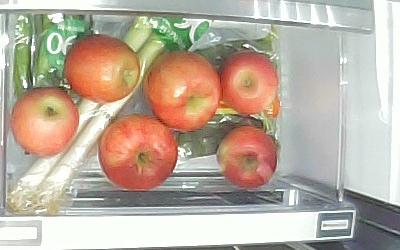apple: (143, 50, 220, 133), (98, 114, 178, 189), (65, 35, 140, 103), (10, 87, 79, 157), (216, 126, 279, 188), (221, 52, 278, 115)
